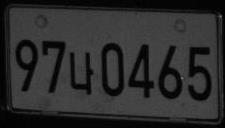0: (100, 41, 125, 97)
4: (127, 43, 154, 98)
5: (187, 46, 213, 101)
6: (156, 45, 183, 100)
7: (41, 39, 66, 94)
9: (14, 38, 39, 92)
나: (68, 51, 95, 96)
